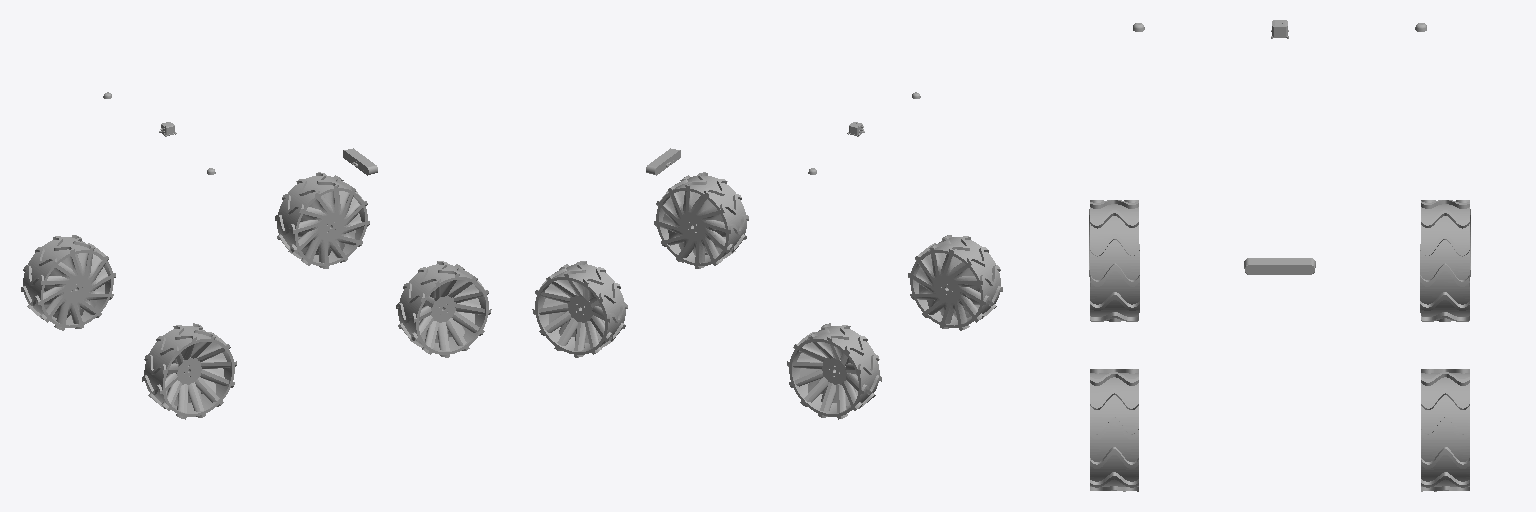
robot.urdf — drubotara:
<?xml version="1.0" ?>
<!-- =================================================================================== -->
<!-- |    This document was autogenerated by xacro from uirover_sim.urdf.xacro         | -->
<!-- |    EDITING THIS FILE BY HAND IS NOT RECOMMENDED                                 | -->
<!-- =================================================================================== -->
<robot name="drubotara">
  <link name="base_link">
    <inertial>
      <origin rpy="0 0 0" xyz="-0.041814202474443105 -0.0019618715262042174 0.6193247013374815"/>
      <mass value="36.39044123390723"/>
      <inertia ixx="6.03199" ixy="0.023767" ixz="1.64321" iyy="7.702627" iyz="-0.013389" izz="5.299368"/>
    </inertial>
    <visual>
      <origin rpy="0 0 0" xyz="0 0 0"/>
      <geometry>
        <mesh filename="package://uirover_description/meshes/base_link.stl" scale="0.001 0.001 0.001"/>
      </geometry>
      <material name="silver"/>
    </visual>
    <collision>
      <origin rpy="0 0 0" xyz="0.0 0.0 0.4"/>
      <geometry>
        <box size="1.0 0.8 0.4"/>
      </geometry>
    </collision>
  </link>
  <link name="wheel_fl">
    <inertial>
      <origin rpy="0 0 0" xyz="3.7696796749253636e-05 -0.013990696409831527 9.916211229921146e-08"/>
      <mass value="3.6608099590512784"/>
      <inertia ixx="0.023653" ixy="-4.6e-05" ixz="0.0" iyy="0.0409" iyz="0.0" izz="0.023653"/>
    </inertial>
    <visual>
      <origin rpy="0 0 0" xyz="-0.560952 -0.402778 -0.152136"/>
      <geometry>
        <mesh filename="package://uirover_description/meshes/wheel_1_1.stl" scale="0.001 0.001 0.001"/>
      </geometry>
      <material name="silver"/>
    </visual>
    <collision>
      <origin rpy="1.5708 0 0" xyz="0 0 0"/>
      <geometry>
        <cylinder length="0.1" radius="0.152"/>
      </geometry>
    </collision>
  </link>
  <link name="wheel_bl">
    <inertial>
      <origin rpy="0 0 0" xyz="-0.0001380586105538817 -0.013990286963790344 1.321317391611565e-07"/>
      <mass value="3.6608098509080222"/>
      <inertia ixx="0.023654" ixy="0.000171" ixz="-0.0" iyy="0.040898" iyz="0.0" izz="0.023653"/>
    </inertial>
    <visual>
      <origin rpy="0 0 0" xyz="0.417255 -0.402775 -0.152136"/>
      <geometry>
        <mesh filename="package://uirover_description/meshes/wheel_2_1.stl" scale="0.001 0.001 0.001"/>
      </geometry>
      <material name="silver"/>
    </visual>
    <collision>
      <origin rpy="1.5708 0 0" xyz="0 0 0"/>
      <geometry>
        <cylinder length="0.1" radius="0.152"/>
      </geometry>
    </collision>
  </link>
  <link name="wheel_fr">
    <inertial>
      <origin rpy="0 0 0" xyz="3.769679674670012e-05 0.013991269285021646 9.916212437288685e-08"/>
      <mass value="3.660809959044042"/>
      <inertia ixx="0.023653" ixy="4.6e-05" ixz="0.0" iyy="0.0409" iyz="-0.0" izz="0.023653"/>
    </inertial>
    <visual>
      <origin rpy="0 0 0" xyz="-0.560952 0.405607 -0.152136"/>
      <geometry>
        <mesh filename="package://uirover_description/meshes/wheel_3_1.stl" scale="0.001 0.001 0.001"/>
      </geometry>
      <material name="silver"/>
    </visual>
    <collision>
      <origin rpy="1.5708 0 0" xyz="0 0 0"/>
      <geometry>
        <cylinder length="0.1" radius="0.152"/>
      </geometry>
    </collision>
  </link>
  <link name="wheel_br">
    <inertial>
      <origin rpy="0 0 0" xyz="-0.00013805861055471436 0.013990859838980463 1.3213175284465528e-07"/>
      <mass value="3.6608098509007836"/>
      <inertia ixx="0.023654" ixy="-0.000171" ixz="-0.0" iyy="0.040898" iyz="-0.0" izz="0.023653"/>
    </inertial>
    <visual>
      <origin rpy="0 0 0" xyz="0.417255 0.405604 -0.152136"/>
      <geometry>
        <mesh filename="package://uirover_description/meshes/wheel_4_1.stl" scale="0.001 0.001 0.001"/>
      </geometry>
      <material name="silver"/>
    </visual>
    <collision>
      <origin rpy="1.5708 0 0" xyz="0 0 0"/>
      <geometry>
        <cylinder length="0.1" radius="0.152"/>
      </geometry>
    </collision>
  </link>
  <link name="camera_link">
    <inertial>
      <origin rpy="0 0 0" xyz="-0.0038644930255475884 -0.00046519988354149487 0.014942744960595"/>
      <mass value="1.3266544034835752"/>
      <inertia ixx="0.003059" ixy="7e-06" ixz="-1e-06" iyy="0.000258" iyz="0.0" izz="0.003122"/>
    </inertial>
    <visual>
      <origin rpy="0 0 0" xyz="-0.4775 0.001498 -0.537"/>
      <geometry>
        <mesh filename="package://uirover_description/meshes/ZED2i_1.stl" scale="0.001 0.001 0.001"/>
      </geometry>
      <material name="silver"/>
    </visual>
    <collision>
      <origin rpy="0 0 0" xyz="-0.4775 0.001498 -0.537"/>
      <geometry>
        <mesh filename="package://uirover_description/meshes/ZED2i_1.stl" scale="0.001 0.001 0.001"/>
      </geometry>
    </collision>
  </link>
  <link name="imu_link">
    <inertial>
      <origin rpy="0 0 0" xyz="0.2485 0.020914 -0.830149"/>
      <mass value="0.1"/>
      <inertia ixx="0.001" ixy="0.0" ixz="0.0" iyy="0.001" iyz="0.0" izz="0.001"/>
    </inertial>
    <visual>
      <origin rpy="0 0 0" xyz="0.2485 0.020914 -0.830149"/>
      <geometry>
        <mesh filename="package://uirover_description/meshes/ELLIPSE-D-B-Gen3_v2_1.stl" scale="0.001 0.001 0.001"/>
      </geometry>
      <material name="silver"/>
    </visual>
    <collision>
      <origin rpy="0 0 0" xyz="0.2485 0.020914 -0.830149"/>
      <geometry>
        <mesh filename="package://uirover_description/meshes/ELLIPSE-D-B-Gen3_v2_1.stl" scale="0.001 0.001 0.001"/>
      </geometry>
    </collision>
  </link>
  <link name="antenna_1">
    <inertial>
      <origin rpy="0 0 0" xyz="2.275957200481571e-15 -2.1356236129532746e-07 0.0064851534857001125"/>
      <mass value="0.013335005852757369"/>
      <inertia ixx="1e-06" ixy="0.0" ixz="0.0" iyy="1e-06" iyz="0.0" izz="1e-06"/>
    </inertial>
    <visual>
      <origin rpy="0 0 0" xyz="0.3 0.346414 -0.830149"/>
      <geometry>
        <mesh filename="package://uirover_description/meshes/Antena_1_1.stl" scale="0.001 0.001 0.001"/>
      </geometry>
      <material name="silver"/>
    </visual>
    <collision>
      <origin rpy="0 0 0" xyz="0.3 0.346414 -0.830149"/>
      <geometry>
        <mesh filename="package://uirover_description/meshes/Antena_1_1.stl" scale="0.001 0.001 0.001"/>
      </geometry>
    </collision>
  </link>
  <link name="antenna_2">
    <inertial>
      <origin rpy="0 0 0" xyz="1.9984014443252818e-15 -2.13562358186703e-07 0.006485153485689454"/>
      <mass value="0.013335005852757365"/>
      <inertia ixx="1e-06" ixy="0.0" ixz="0.0" iyy="1e-06" iyz="-0.0" izz="1e-06"/>
    </inertial>
    <visual>
      <origin rpy="0 0 0" xyz="0.3 -0.343586 -0.830149"/>
      <geometry>
        <mesh filename="package://uirover_description/meshes/Antena_2_1.stl" scale="0.001 0.001 0.001"/>
      </geometry>
      <material name="silver"/>
    </visual>
    <collision>
      <origin rpy="0 0 0" xyz="0.3 -0.343586 -0.830149"/>
      <geometry>
        <mesh filename="package://uirover_description/meshes/Antena_2_1.stl" scale="0.001 0.001 0.001"/>
      </geometry>
    </collision>
  </link>
  <!-- Joints -->
  <joint name="fl_wheel_joint" type="continuous">
    <origin rpy="0 0 0" xyz="0.560952 0.402778 0.152136"/>
    <parent link="base_link"/>
    <child link="wheel_fl"/>
    <axis xyz="0 1 0"/>
  </joint>
  <joint name="fr_wheel_joint" type="continuous">
    <origin rpy="0 0 0" xyz="0.560952 -0.405607 0.152136"/>
    <parent link="base_link"/>
    <child link="wheel_fr"/>
    <axis xyz="0 1 0"/>
  </joint>
  <joint name="bl_wheel_joint" type="continuous">
    <origin rpy="0 0 0" xyz="-0.417255 0.402775 0.152136"/>
    <parent link="base_link"/>
    <child link="wheel_bl"/>
    <axis xyz="0 1 0"/>
  </joint>
  <joint name="br_wheel_joint" type="continuous">
    <origin rpy="0 0 0" xyz="-0.417255 -0.405604 0.152136"/>
    <parent link="base_link"/>
    <child link="wheel_br"/>
    <axis xyz="0 1 0"/>
  </joint>
  <joint name="camera_joint" type="fixed">
    <origin rpy="0 0 0" xyz="0.4775 -0.001498 0.537"/>
    <parent link="base_link"/>
    <child link="camera_link"/>
  </joint>
  <joint name="imu_joint" type="fixed">
    <origin rpy="0 0 0" xyz="-0.2485 -0.020914 0.830149"/>
    <parent link="base_link"/>
    <child link="imu_link"/>
  </joint>
  <joint name="antenna_1_joint" type="fixed">
    <origin rpy="0 0 0" xyz="-0.3 -0.346414 0.830149"/>
    <parent link="base_link"/>
    <child link="antenna_1"/>
  </joint>
  <joint name="antenna_2_joint" type="fixed">
    <origin rpy="0 0 0" xyz="-0.3 0.343586 0.830149"/>
    <parent link="base_link"/>
    <child link="antenna_2"/>
  </joint>
  <material name="silver">
    <color rgba="0.700 0.700 0.700 1.000"/>
  </material>
  <material name="black">
    <color rgba="0.0 0.0 0.0 1.0"/>
  </material>
  <material name="white">
    <color rgba="1.0 1.0 1.0 1.0"/>
  </material>
  <gazebo>
    <plugin filename="libgazebo_ros2_control.so" name="gazebo_ros2_control">
      <parameters>/home/mt/ros2_ws/install/uirover_description/share/uirover_description/config/mt_controllers.yaml</parameters>
    </plugin>
  </gazebo>
  <gazebo reference="base_link">
    <material>Gazebo/Orange</material>
    <mu1>0.0</mu1>
    <mu2>0.0</mu2>
    <selfCollide>false</selfCollide>
    <gravity>true</gravity>
  </gazebo>
  <gazebo reference="wheel_fl">
    <material>Gazebo/Black</material>
    <mu1>0.5</mu1>
    <mu2>0.3</mu2>
    <kp>100000000.0</kp>
    <kd>5.0</kd>
    <minDepth>0.005</minDepth>
    <maxVel>20.</maxVel>
    <!-- <fdir1>1 0 0</fdir1> -->
    <selfCollide>false</selfCollide>
  </gazebo>
  <gazebo reference="wheel_fr">
    <material>Gazebo/Black</material>
    <mu1>0.5</mu1>
    <mu2>0.3</mu2>
    <kp>100000000.0</kp>
    <kd>5.0</kd>
    <minDepth>0.005</minDepth>
    <maxVel>20.0</maxVel>
    <!-- <fdir1>1 0 0</fdir1> -->
    <selfCollide>false</selfCollide>
  </gazebo>
  <gazebo reference="wheel_bl">
    <material>Gazebo/Black</material>
    <mu1>0.5</mu1>
    <mu2>0.3</mu2>
    <kp>100000000.0</kp>
    <kd>5.0</kd>
    <minDepth>0.005</minDepth>
    <maxVel>20.0</maxVel>
    <!-- <fdir1>1 0 0</fdir1> -->
    <selfCollide>false</selfCollide>
  </gazebo>
  <gazebo reference="wheel_br">
    <material>Gazebo/Black</material>
    <mu1>0.5</mu1>
    <mu2>0.3</mu2>
    <kp>100000000.0</kp>
    <kd>5.0</kd>
    <minDepth>0.005</minDepth>
    <maxVel>20.0</maxVel>
    <!-- <fdir1>1 0 0</fdir1> -->
    <selfCollide>false</selfCollide>
  </gazebo>
  <gazebo reference="camera_link">
    <material>Gazebo/Black</material>
    <mu1>0.1</mu1>
    <mu2>0.1</mu2>
    <selfCollide>true</selfCollide>
  </gazebo>
  <gazebo reference="imu_link">
    <material>Gazebo/Red</material>
    <mu1>0.1</mu1>
    <mu2>0.1</mu2>
    <selfCollide>true</selfCollide>
  </gazebo>
  <gazebo reference="antenna_1">
    <material>Gazebo/DarkGrey</material>
    <mu1>0.1</mu1>
    <mu2>0.1</mu2>
    <selfCollide>true</selfCollide>
  </gazebo>
  <gazebo reference="antenna_2">
    <material>Gazebo/DarkGrey</material>
    <mu1>0.1</mu1>
    <mu2>0.1</mu2>
    <selfCollide>true</selfCollide>
  </gazebo>
  <ros2_control name="GazeboSystem" type="system">
    <hardware>
      <plugin>gazebo_ros2_control/GazeboSystem</plugin>
    </hardware>
    <!-- Front Left Wheel -->
    <joint name="fl_wheel_joint">
      <command_interface name="velocity">
        <param name="min">-50</param>
        <param name="max">50</param>
      </command_interface>
      <state_interface name="velocity"/>
      <state_interface name="position"/>
    </joint>
    <!-- Front Right Wheel -->
    <joint name="fr_wheel_joint">
      <command_interface name="velocity">
        <param name="min">-50</param>
        <param name="max">50</param>
      </command_interface>
      <state_interface name="velocity"/>
      <state_interface name="position"/>
    </joint>
    <!-- Back Left Wheel -->
    <joint name="bl_wheel_joint">
      <command_interface name="velocity">
        <param name="min">-50</param>
        <param name="max">50</param>
      </command_interface>
      <state_interface name="velocity"/>
      <state_interface name="position"/>
    </joint>
    <!-- Back Right Wheel -->
    <joint name="br_wheel_joint">
      <command_interface name="velocity">
        <param name="min">-50</param>
        <param name="max">50</param>
      </command_interface>
      <state_interface name="velocity"/>
      <state_interface name="position"/>
    </joint>
  </ros2_control>
  <gazebo reference="camera_link">
    <sensor name="camera_sensor" type="depth">
      <camera>
        <horizontal_fov>1.91972</horizontal_fov>
        <vertical_fov>1.22173</vertical_fov>
        <image>
          <width>640</width>
          <height>480</height>
          <format>R8G8B8</format>
        </image>
        <clip>
          <near>0.3</near>
          <far>10.0</far>
        </clip>
      </camera>
      <always_on>true</always_on>
      <update_rate>30</update_rate>
      <visualize>false</visualize>
      <plugin filename="libgazebo_ros_camera.so" name="depth_camera_controller">
        <ros>
          <namespace>/</namespace>
          <remapping>image_raw:=camera/image_raw</remapping>
          <remapping>camera_info:=camera/camera_info</remapping>
          <remapping>depth/image_raw:=camera/depth/image_raw_unused</remapping>
          <remapping>depth/camera_info:=camera/depth/camera_info_unused</remapping>
          <remapping>points:=camera/points</remapping>
        </ros>
        <camera_name>camera</camera_name>
        <frame_name>camera_optical_frame</frame_name>
        <hack_baseline>0.07</hack_baseline>
        <min_depth>0.3</min_depth>
        <max_depth>10.0</max_depth>
      </plugin>
    </sensor>
  </gazebo>
  <link name="camera_optical_frame"/>
  <joint name="camera_optical_joint" type="fixed">
    <origin rpy="-1.5708 0.0 -1.5708" xyz="0.0 0.0 0.0"/>
    <parent link="camera_link"/>
    <child link="camera_optical_frame"/>
  </joint>
  <gazebo reference="imu_link">
    <sensor name="imu_sensor" type="imu">
      <always_on>true</always_on>
      <update_rate>100</update_rate>
      <imu>
        <angular_velocity>
          <x>
            <noise type="gaussian">
              <mean>0.0</mean>
              <stddev>2e-4</stddev>
            </noise>
          </x>
          <y>
            <noise type="gaussian">
              <mean>0.0</mean>
              <stddev>2e-4</stddev>
            </noise>
          </y>
          <z>
            <noise type="gaussian">
              <mean>0.0</mean>
              <stddev>2e-4</stddev>
            </noise>
          </z>
        </angular_velocity>
        <linear_acceleration>
          <x>
            <noise type="gaussian">
              <mean>0.0</mean>
              <stddev>1.7e-2</stddev>
            </noise>
          </x>
          <y>
            <noise type="gaussian">
              <mean>0.0</mean>
              <stddev>1.7e-2</stddev>
            </noise>
          </y>
          <z>
            <noise type="gaussian">
              <mean>0.0</mean>
              <stddev>1.7e-2</stddev>
            </noise>
          </z>
        </linear_acceleration>
      </imu>
      <plugin filename="libgazebo_ros_imu_sensor.so" name="imu_plugin">
        <ros>
          <namespace>/</namespace>
          <remapping>~/out:=imu</remapping>
        </ros>
        <initial_orientation_as_reference>false</initial_orientation_as_reference>
        <frame_name>imu_link</frame_name>
      </plugin>
    </sensor>
  </gazebo>
</robot>

--- What the picture shows (computed from the rendered views, not written in the file) ---
3 views of the same robot in one strip: view 1: azimuth 30°, elevation 25°; view 2: azimuth 150°, elevation 25°; view 3: azimuth 270°, elevation 25° (orthographic).
Robot: drubotara — 10 links, 9 joints (4 continuous, 5 fixed); root link base_link; default pose: all joints at 0.
Visible links, largest first — view 1: wheel_fr, wheel_fl, wheel_bl, wheel_br; view 2: wheel_fl, wheel_fr, wheel_br, wheel_bl; view 3: wheel_bl, wheel_br, wheel_fl, wheel_fr, camera_link.
Link boxes in pixels (x1=…): wheel_fr: x1=396, y1=261, x2=491, y2=357; wheel_fl: x1=275, y1=172, x2=369, y2=268; wheel_bl: x1=21, y1=235, x2=115, y2=330; wheel_br: x1=142, y1=323, x2=236, y2=419; wheel_fl: x1=532, y1=261, x2=627, y2=357; wheel_fr: x1=654, y1=172, x2=748, y2=268; wheel_br: x1=908, y1=235, x2=1002, y2=330; wheel_bl: x1=787, y1=323, x2=881, y2=419; wheel_bl: x1=1420, y1=200, x2=1470, y2=321; wheel_br: x1=1089, y1=200, x2=1139, y2=321; wheel_fl: x1=1421, y1=369, x2=1469, y2=491; wheel_fr: x1=1090, y1=369, x2=1138, y2=491; camera_link: x1=1244, y1=258, x2=1315, y2=274.
Size in the robot's own frame: 1.28 by 0.9313 by 0.86 metres.
Meshes: 9 distinct files referenced, 8 mesh visuals loaded (8 binary STL); not drawn: 1 (reference not matched to a file when rendering).
